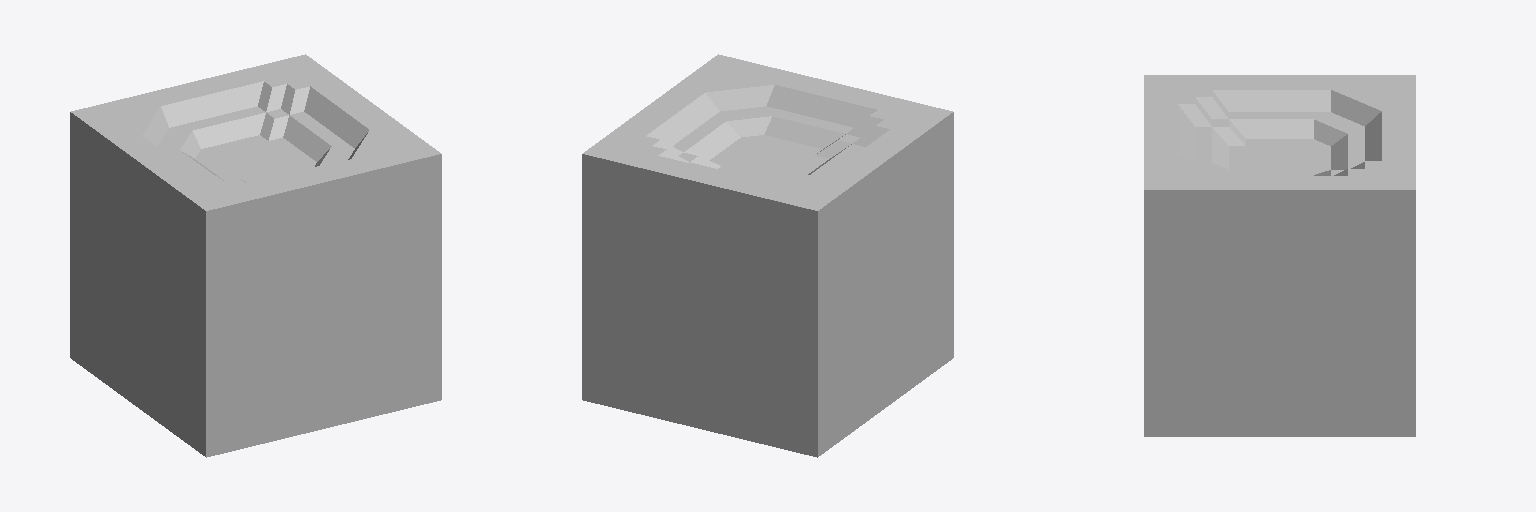
The picture shows the model from 3 angles: view 1: azimuth 30°, elevation 25°; view 2: azimuth 150°, elevation 25°; view 3: azimuth 270°, elevation 25°; orthographic projection.
Visible parts, largest first — view 1: headusOBJexport; view 2: headusOBJexport; view 3: headusOBJexport.
Part boxes in pixels (left/top/right/bottom): headusOBJexport: left=70, top=54, right=441, bottom=457; headusOBJexport: left=582, top=54, right=953, bottom=457; headusOBJexport: left=1144, top=75, right=1415, bottom=436.
Bounding box in the file's own units: 16 × 16 × 16.